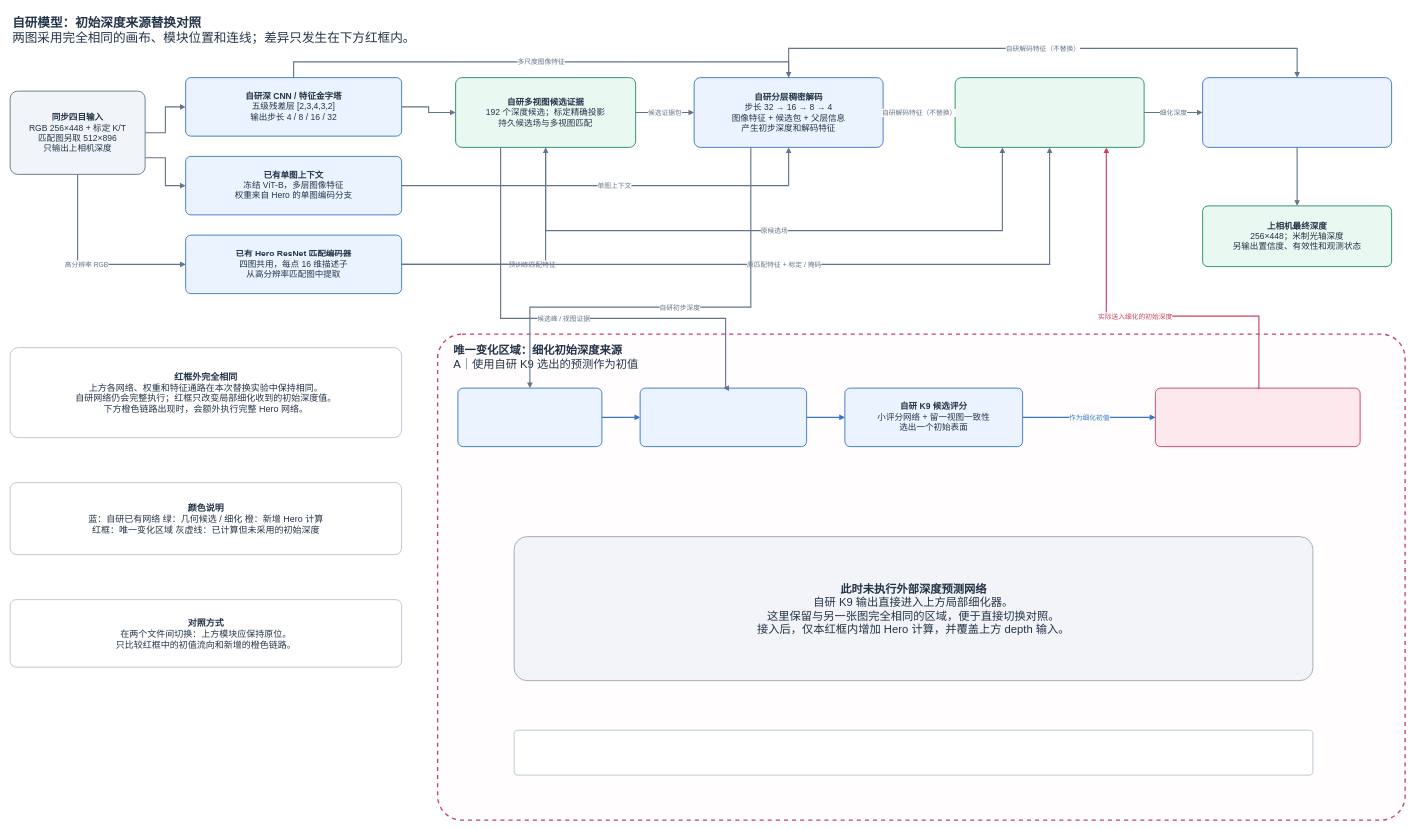
Image size: 1413x828. Some labels were removed from this diagram. The shapes that lost their labels are listed below. From the top down, each one's centre as x and y in pixels, then its label:
(1049,112): 自研标定局部细化 初始深度 + 解码特征 + 匹配描述子 投影导数定尺度，精确重投影 9 个局部候选，两轮可靠性门控
(1297,112): 自研原图分辨率解码 细化深度上采样 + 自研解码特征 融合原图 RGB，输出连续深度
(529,417): 自研解码器初步深度 步长 4 网格：64×112 此部分两图都实际计算
(723,417): 形成 9 个表面候选 自身初值 + 8 个独立候选峰 不在前后表面之间直接求平均
(1257,417): 局部细化的 depth 输入 采用自研 K9 选中的深度 形状固定：1×64×112
(913,752): 替换前的数据流 自研解码深度 → 9 候选重选 → 自研细化 → 自研全图输出
